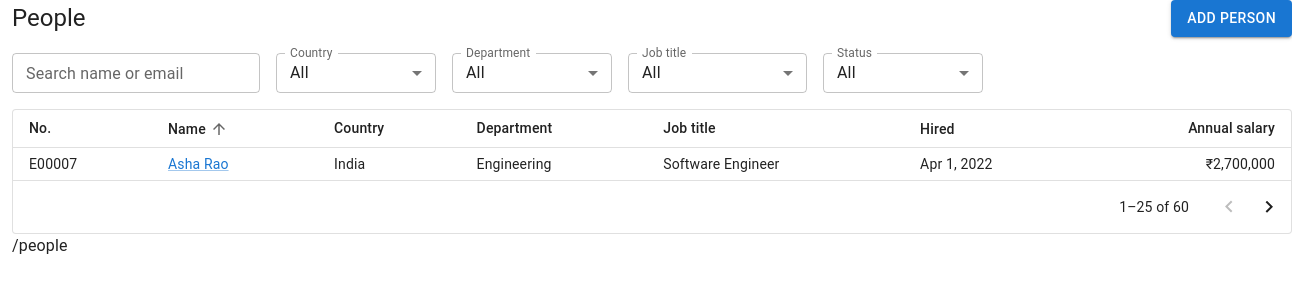
Test: the next page is requested from the server
Check: the link "Asha Rao" is shown, box [168,156,229,172]
Click the button named "Go to next page": click(1269, 207) [1249,187,1289,227]
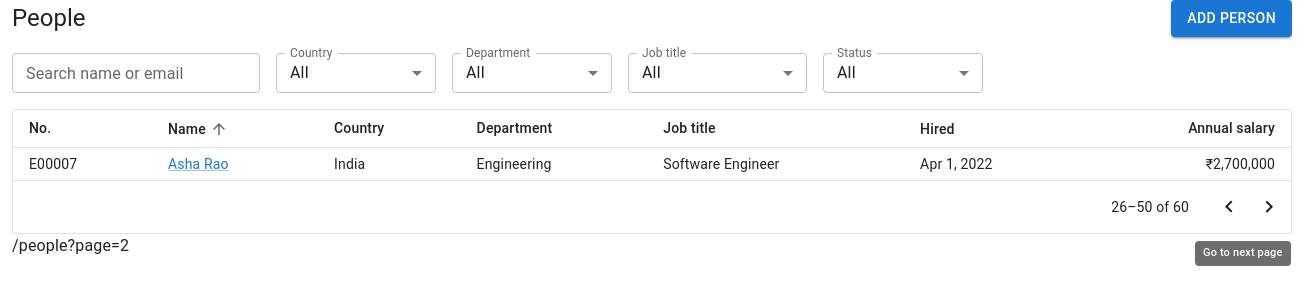
Check: the text with test id "address" reads "/people?page=2", box [12,236,129,255]
